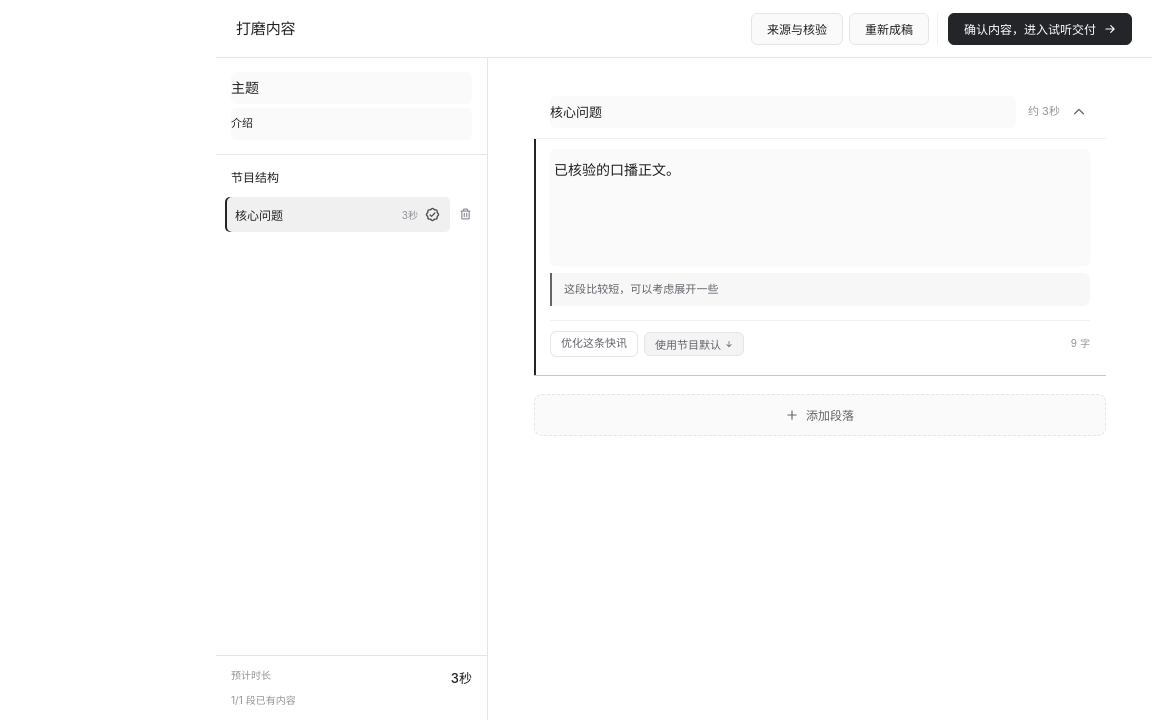
Scenario: focused content workbench › keeps a regeneration failure visible while preserving the draft
Click the button "重新成稿". click: x=889, y=28
box: [849,12,929,44]
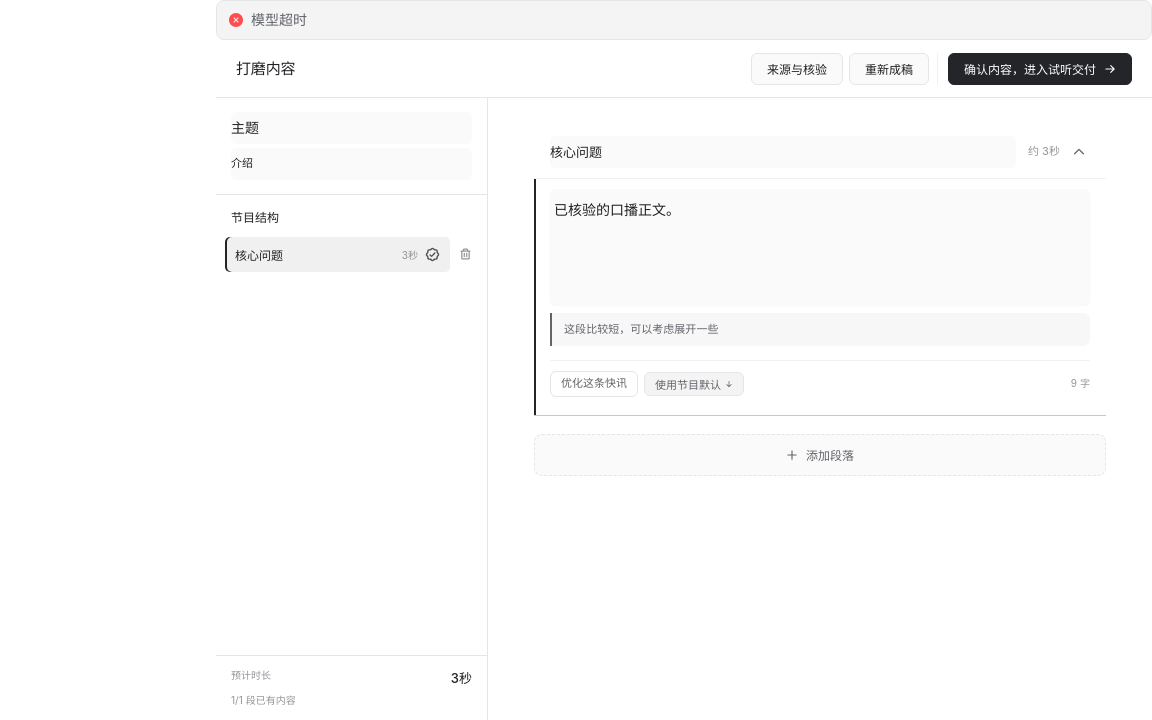
Expected: the text box showing "已核验的口播正文。" is shown, [550,189,1090,305]
Expected: the text "模型超时" is shown, [251,11,307,28]
